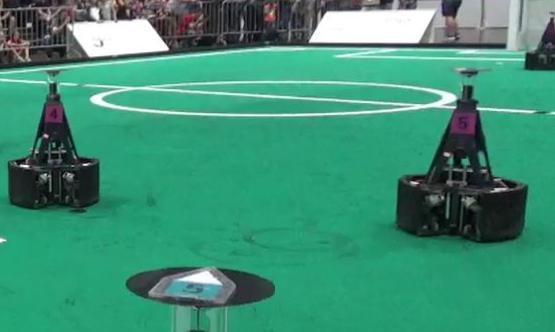robot: (393, 63, 529, 244), (4, 67, 103, 212)
